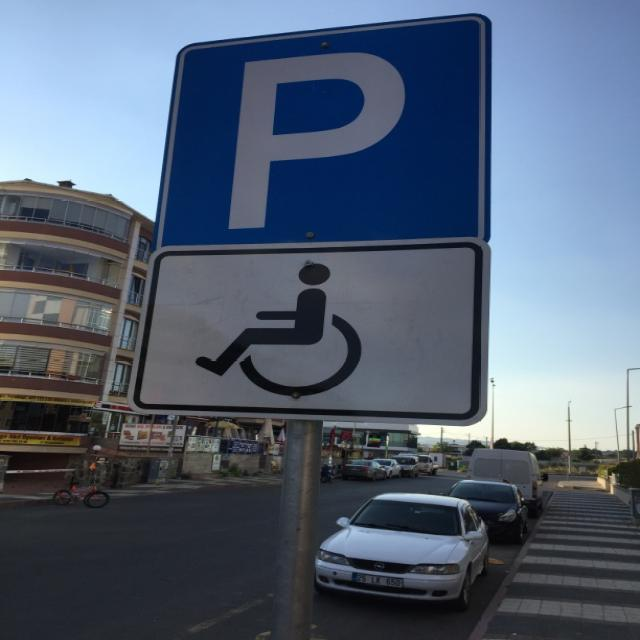park: (150, 11, 490, 238)
